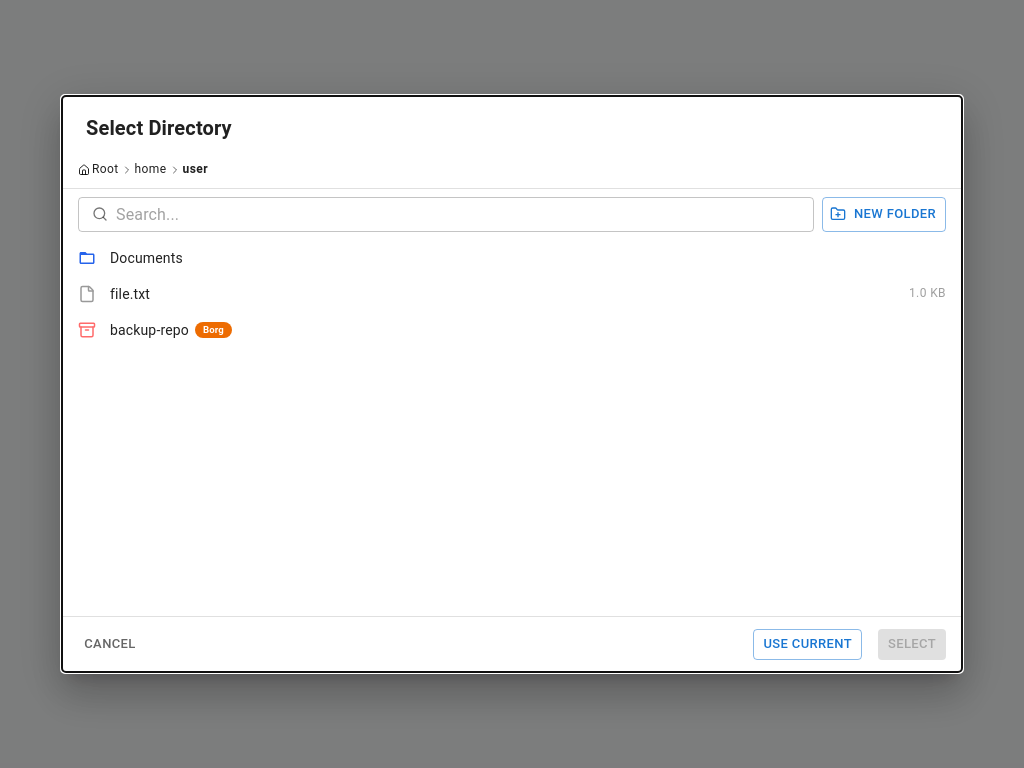
Test: FileExplorerDialog › Create Folder › shows error when folder creation fails
The image size is (1024, 768).
Check: the text "Documents" is shown, box [110,248,183,268]
Step 1. Click the button "New Folder" → click(884, 214), box [822,197,946,232]
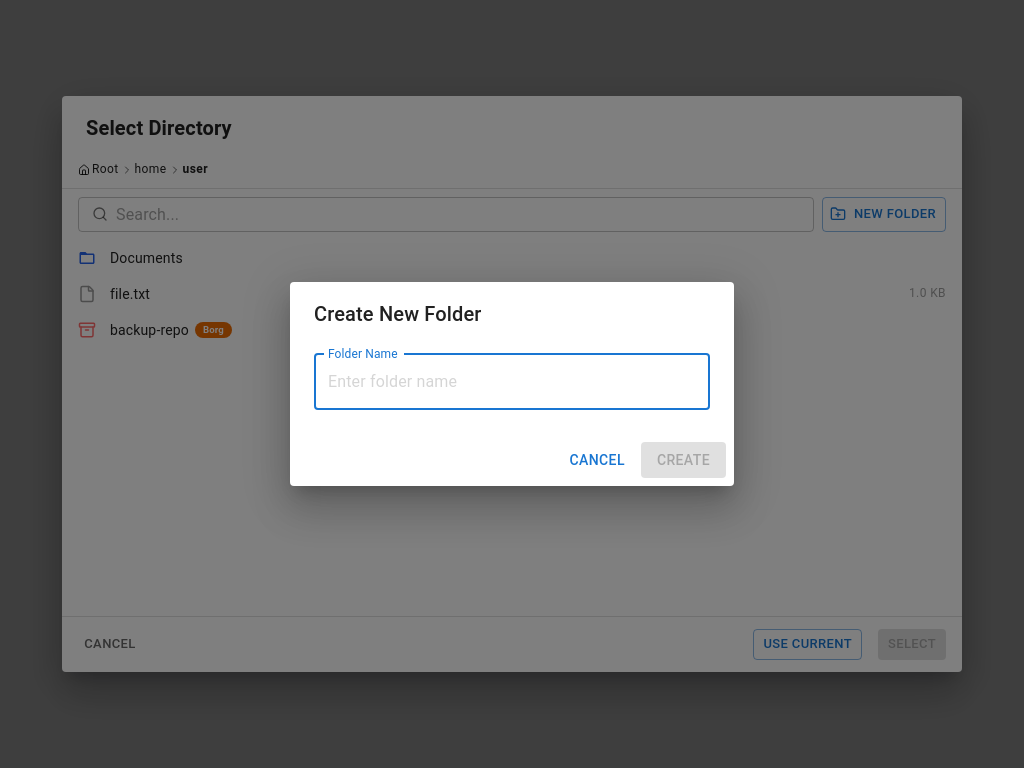
Step 2. Type "ExistingFolder" into the field labelled "Folder Name" → (512, 382), box [314,354,710,410]
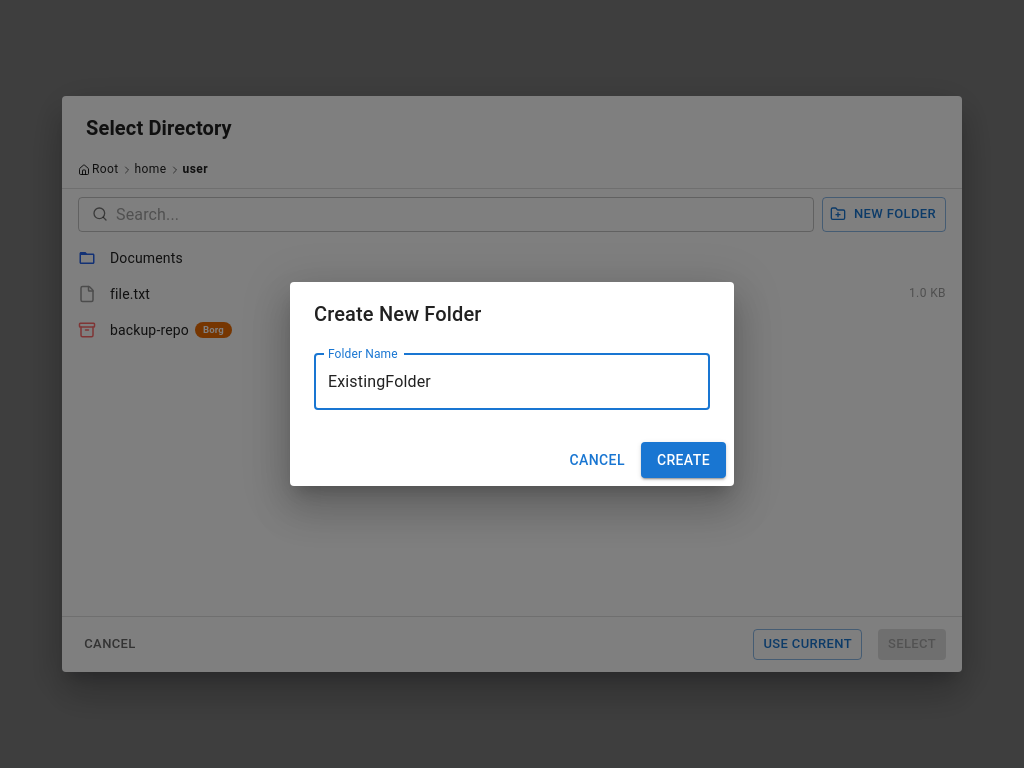
Step 3. Click the button "Create" → click(683, 460), box [641,442,726,478]
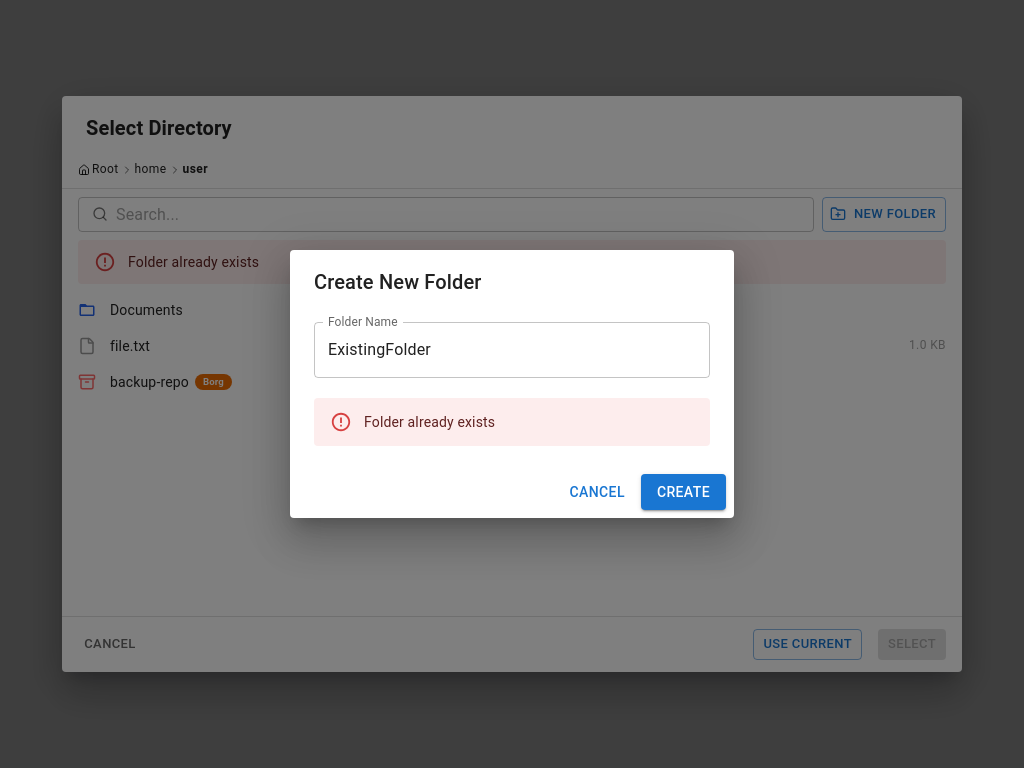
Check: the text "Folder already exists" below "Select Directory" is shown, box [128,254,259,270]
